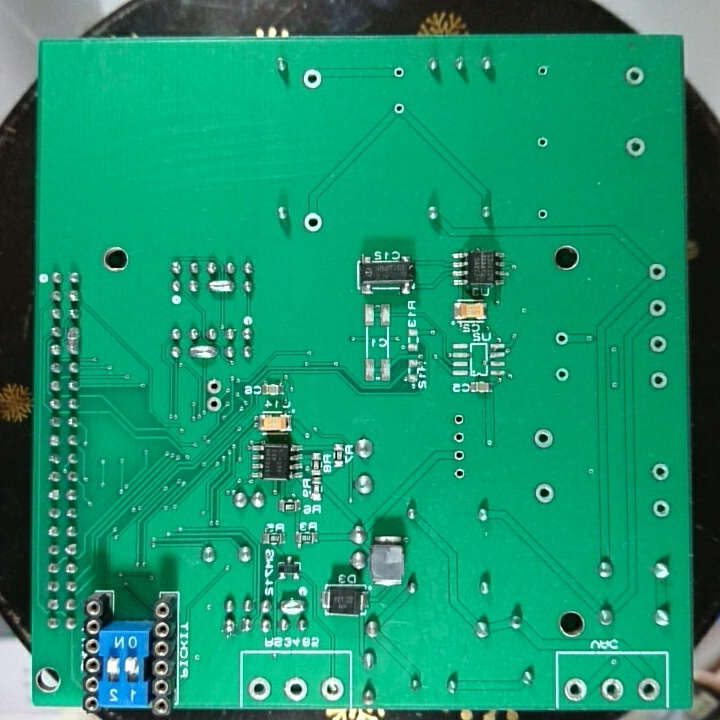F: (246, 673, 275, 704), (560, 675, 589, 705), (599, 675, 628, 705), (634, 675, 663, 704), (317, 673, 345, 703), (282, 675, 311, 701), (624, 134, 648, 161), (648, 459, 672, 486), (645, 260, 669, 286), (531, 426, 555, 452), (645, 296, 669, 320), (622, 65, 647, 88), (301, 209, 322, 236), (301, 67, 325, 90), (651, 498, 674, 521), (646, 333, 670, 355), (534, 482, 556, 506), (647, 367, 667, 391), (204, 395, 224, 415), (551, 330, 573, 348), (553, 362, 571, 384), (534, 132, 552, 153), (205, 376, 224, 395), (390, 100, 408, 119), (451, 463, 467, 484), (451, 410, 468, 429), (451, 445, 468, 463), (535, 206, 551, 225), (536, 63, 552, 81), (391, 64, 408, 80), (452, 430, 468, 446)
P: (63, 323, 85, 358), (186, 340, 219, 362), (277, 595, 310, 616), (206, 278, 237, 298)
